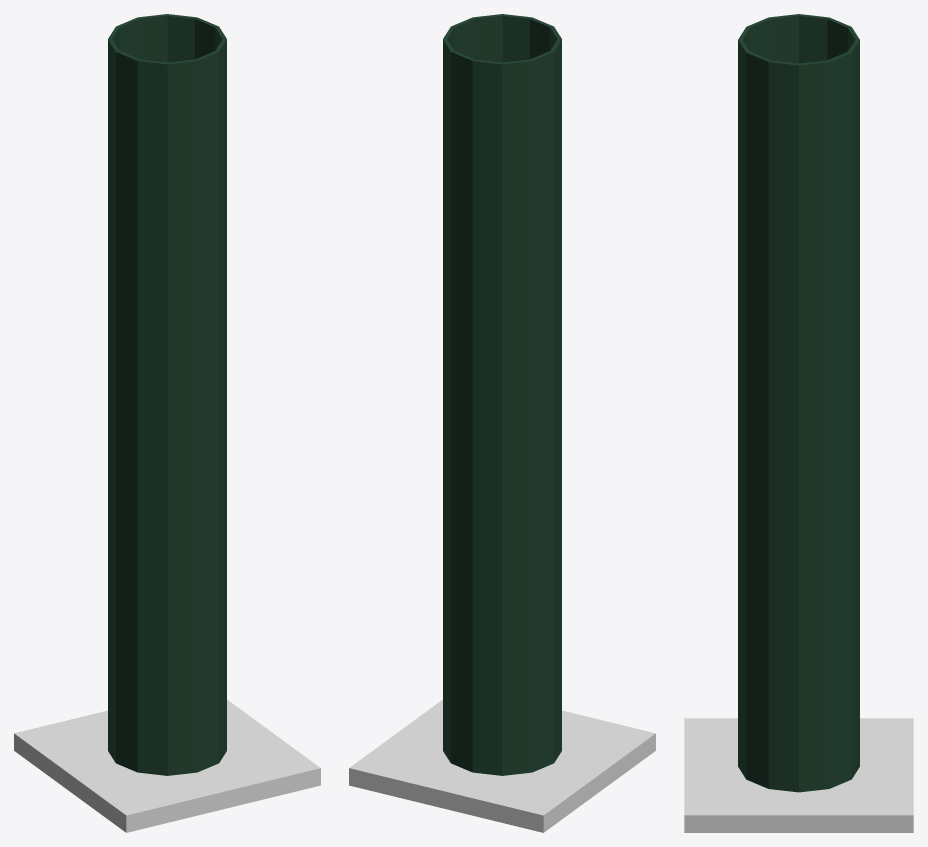
Rendered from flask01.fbx.
The picture shows the model from 3 angles, left to right: view 1: azimuth 30°, elevation 25°; view 2: azimuth 150°, elevation 25°; view 3: azimuth 270°, elevation 25°; orthographic projection. The views are drawn at different scales.
Visible parts, largest first — view 1: polySurface51, pCube29; view 2: polySurface51, pCube29; view 3: polySurface51, pCube29.
Boxes of the visible parts, <box> form: polySurface51: <box>108,14,226,775</box>; pCube29: <box>14,699,320,832</box>; polySurface51: <box>443,14,561,775</box>; pCube29: <box>349,699,655,832</box>; polySurface51: <box>738,14,859,792</box>; pCube29: <box>684,718,913,832</box>.
Bounding box in the file's own units: 0.5245 × 0.5245 × 1.88.
